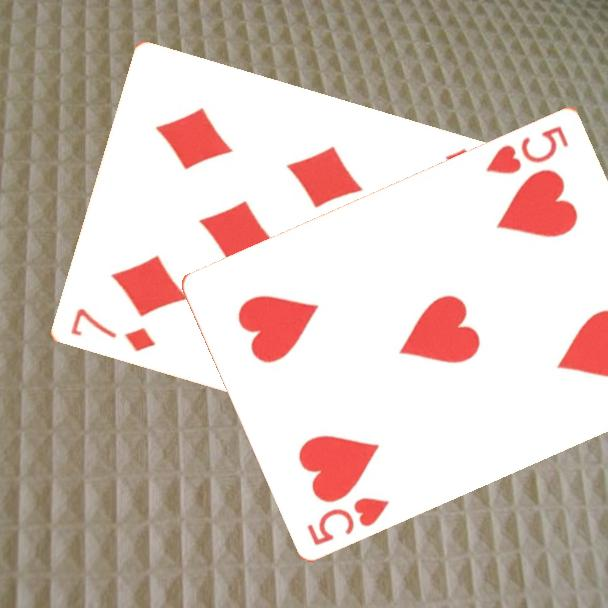d07: (66, 305, 157, 355)
h05: (482, 122, 572, 177), (303, 493, 393, 548)
